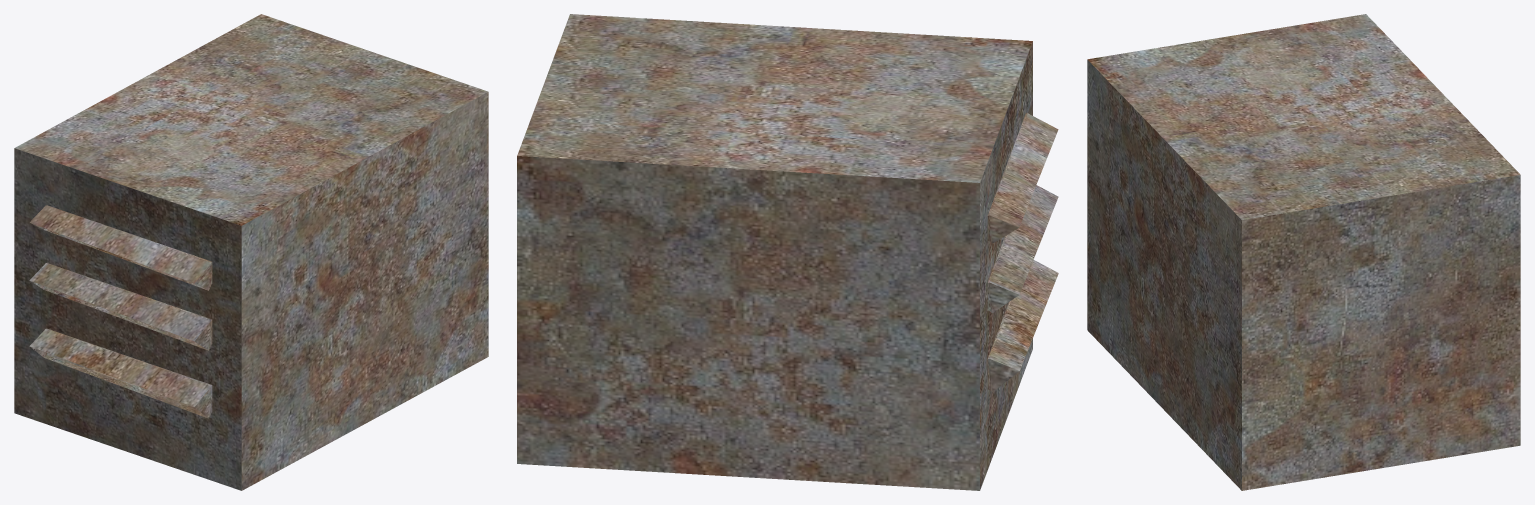
File: gaspipe_Vent_Box.fbx
3 views of the same model, side by side, from view 1: azimuth 30°, elevation 25°; view 2: azimuth 150°, elevation 25°; view 3: azimuth 270°, elevation 25° (orthographic). The views are drawn at different scales.
Visible parts, largest first — view 1: pCube1; view 2: pCube1; view 3: pCube1.
Part boxes in pixels (left/top/right/bottom): pCube1: left=14, top=14, right=488, bottom=490; pCube1: left=517, top=14, right=1058, bottom=490; pCube1: left=1087, top=14, right=1520, bottom=490.
Size of the model in its own units: 1.67 by 1 by 1.45.
Materials: 1 (1 with a texture image).
